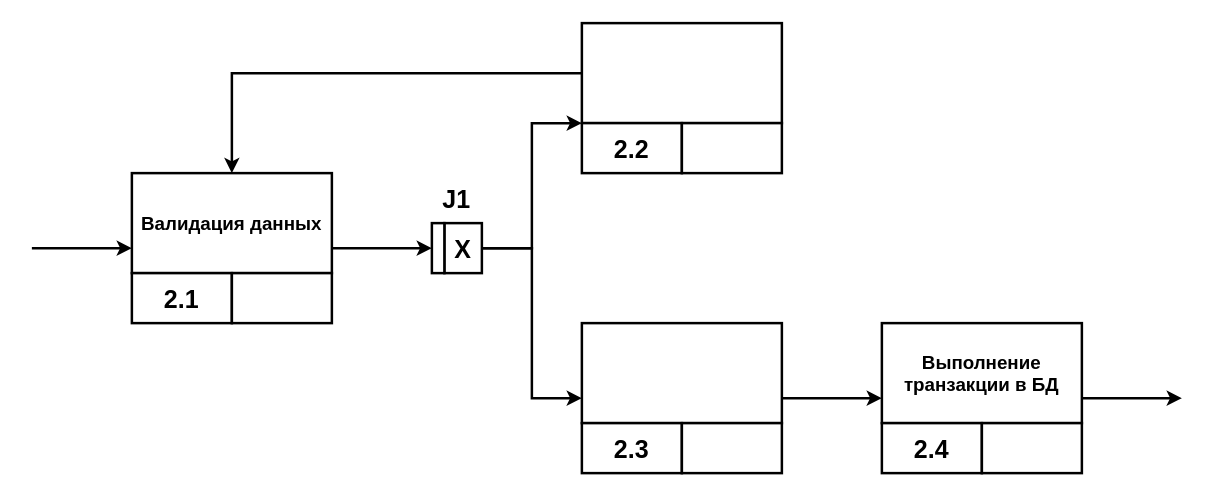
Image size: 1214x495. Some labels were removed from this diagram. Here are the shapes that lost their labels. From the top down, the centre of each, then its label:
(681,72): Преобразование данных
(681,372): Формирование SQL-запросов
